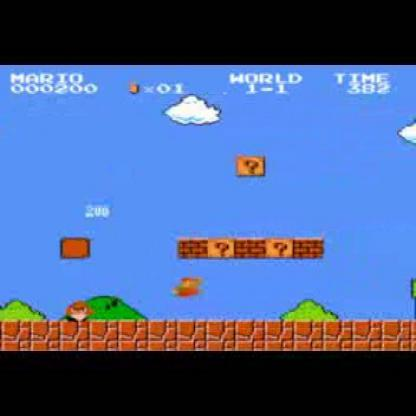Goomba: (65, 297, 94, 322)
